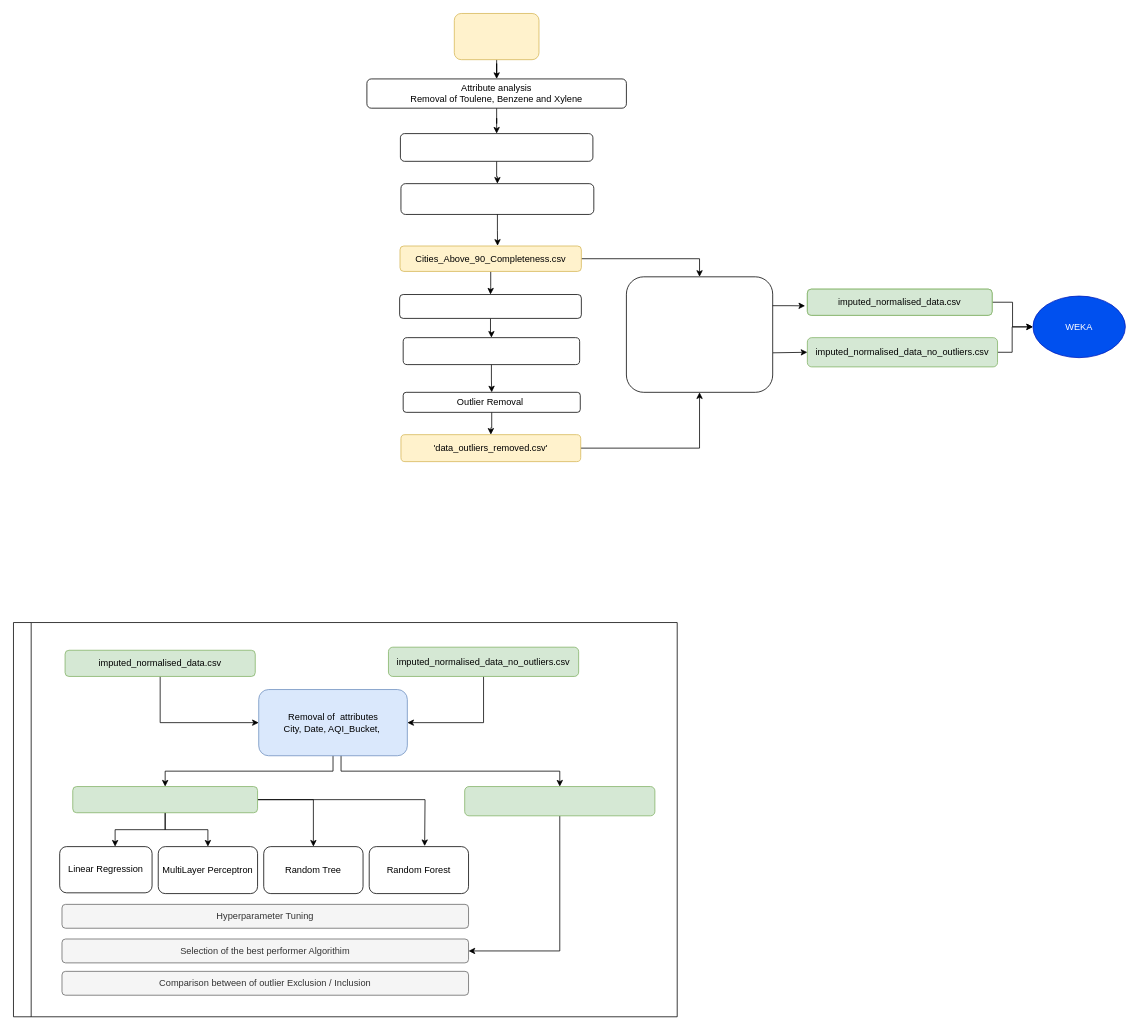
The diagram is 1139 pixels wide and 1030 high, and some of its shapes have lost their labels. The box of each missing label's shape, as (x1, y1, x2, y2) in pixels:
ANALYSIS IN WEKA: (13, 622, 677, 1017)
City_days.csv: (454, 13, 539, 60)
Exclude Cities where data <90% complete: (400, 133, 593, 161)
Final_DataSet_AQI_India.arff: (72, 786, 258, 813)
Final_DataSet_AQI_India_No_Outliers.arff: (464, 786, 655, 816)
Imputation of missing values using mean and scaler normalisation of the dataset: (626, 276, 773, 392)
IQR method of outlier detection: (402, 337, 580, 365)
Remove any rows with AQI values missing: (400, 183, 594, 214)
Shapiro-Wilk test for normality: (399, 294, 581, 318)
